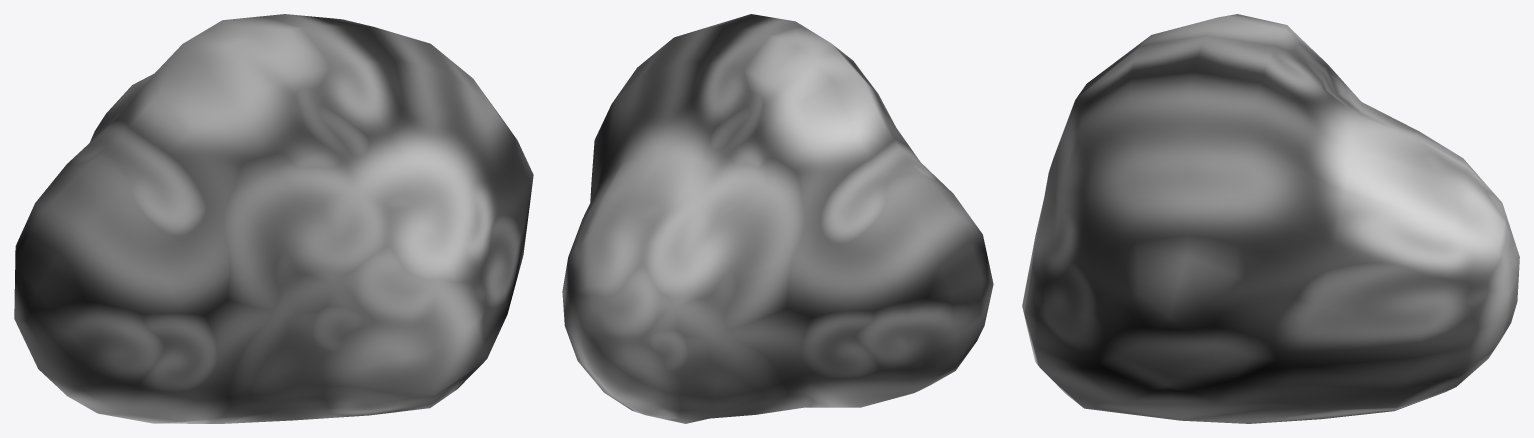
Rendered from Cloud.fbx.
3 views of the same model, side by side, from view 1: azimuth 30°, elevation 25°; view 2: azimuth 150°, elevation 25°; view 3: azimuth 270°, elevation 25° (orthographic). The views are drawn at different scales.
Visible parts, largest first — view 1: PM3D_Sphere3D_002; view 2: PM3D_Sphere3D_002; view 3: PM3D_Sphere3D_002.
Boxes of the visible parts, x1,y1,x2,y2 form: PM3D_Sphere3D_002: (14,14,533,423); PM3D_Sphere3D_002: (562,14,993,423); PM3D_Sphere3D_002: (1022,14,1519,423).
Bounding box in the file's own units: 0.9928 × 0.7961 × 0.9507.
Materials: 1 (1 with a texture image).
